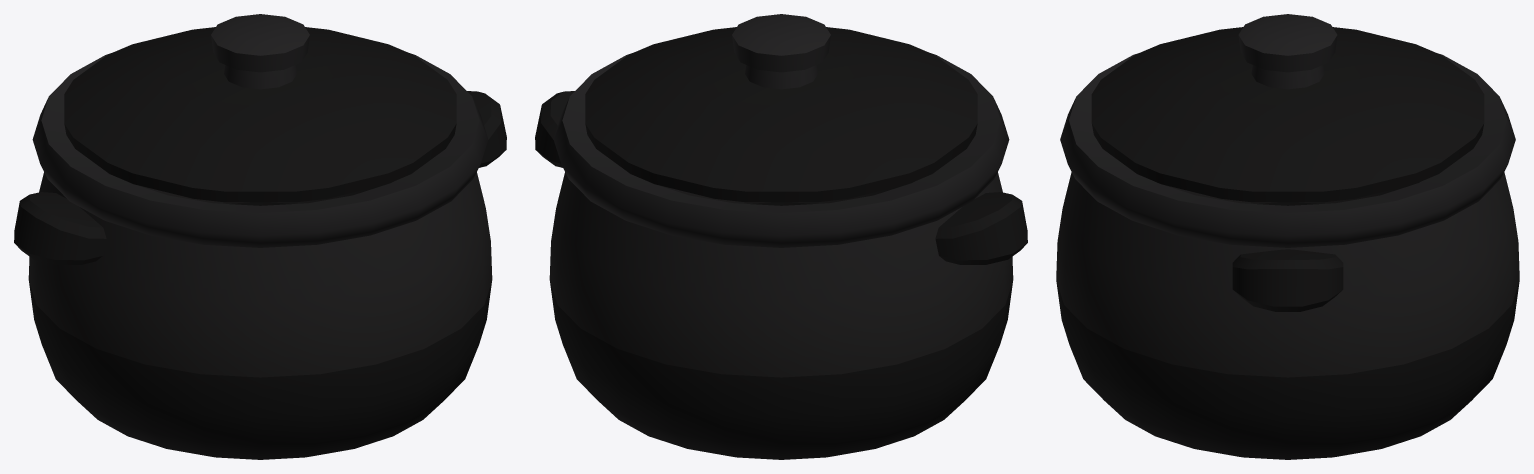
The model's file is Stock_Pot_02_Burnt.fbx.
3 views of the same model, side by side, from view 1: azimuth 30°, elevation 25°; view 2: azimuth 150°, elevation 25°; view 3: azimuth 270°, elevation 25° (orthographic).
Parts seen in each view (by area): view 1: Stock_Pot_02_Burnt, Stock_Pot_02_Burnt_Lid; view 2: Stock_Pot_02_Burnt, Stock_Pot_02_Burnt_Lid; view 3: Stock_Pot_02_Burnt, Stock_Pot_02_Burnt_Lid.
Boxes of the visible parts, box(x1,y1,x2,y2) form: Stock_Pot_02_Burnt: box(14, 53, 506, 459); Stock_Pot_02_Burnt_Lid: box(64, 14, 456, 202); Stock_Pot_02_Burnt: box(535, 53, 1027, 459); Stock_Pot_02_Burnt_Lid: box(585, 14, 977, 202); Stock_Pot_02_Burnt: box(1056, 53, 1519, 459); Stock_Pot_02_Burnt_Lid: box(1091, 14, 1484, 202).
Size of the model in its own units: 99.08 by 71.31 by 83.23.
